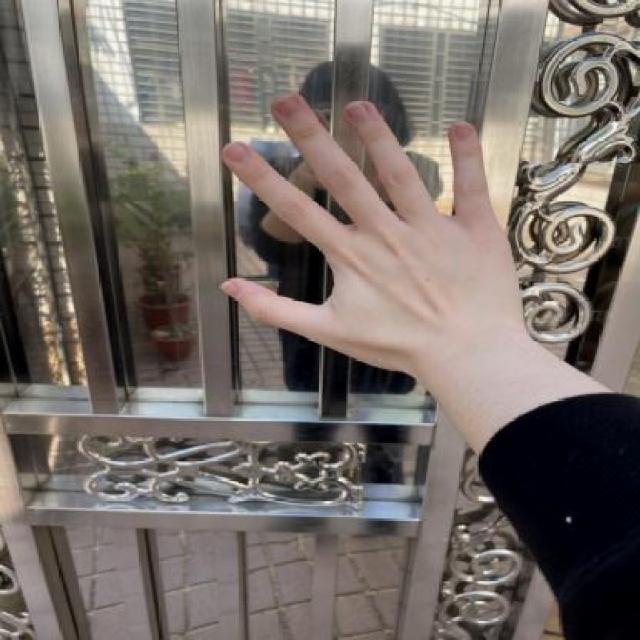no_glove: (186, 74, 532, 403)
